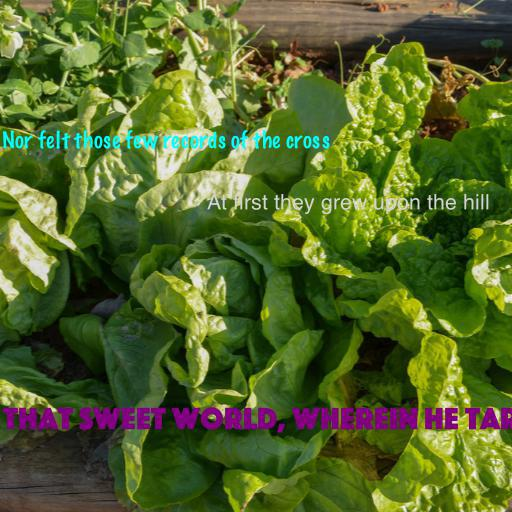Impact: (206, 193, 490, 215)
Marker Felt: (1, 130, 329, 149)
Phosphate: (0, 407, 512, 433)
